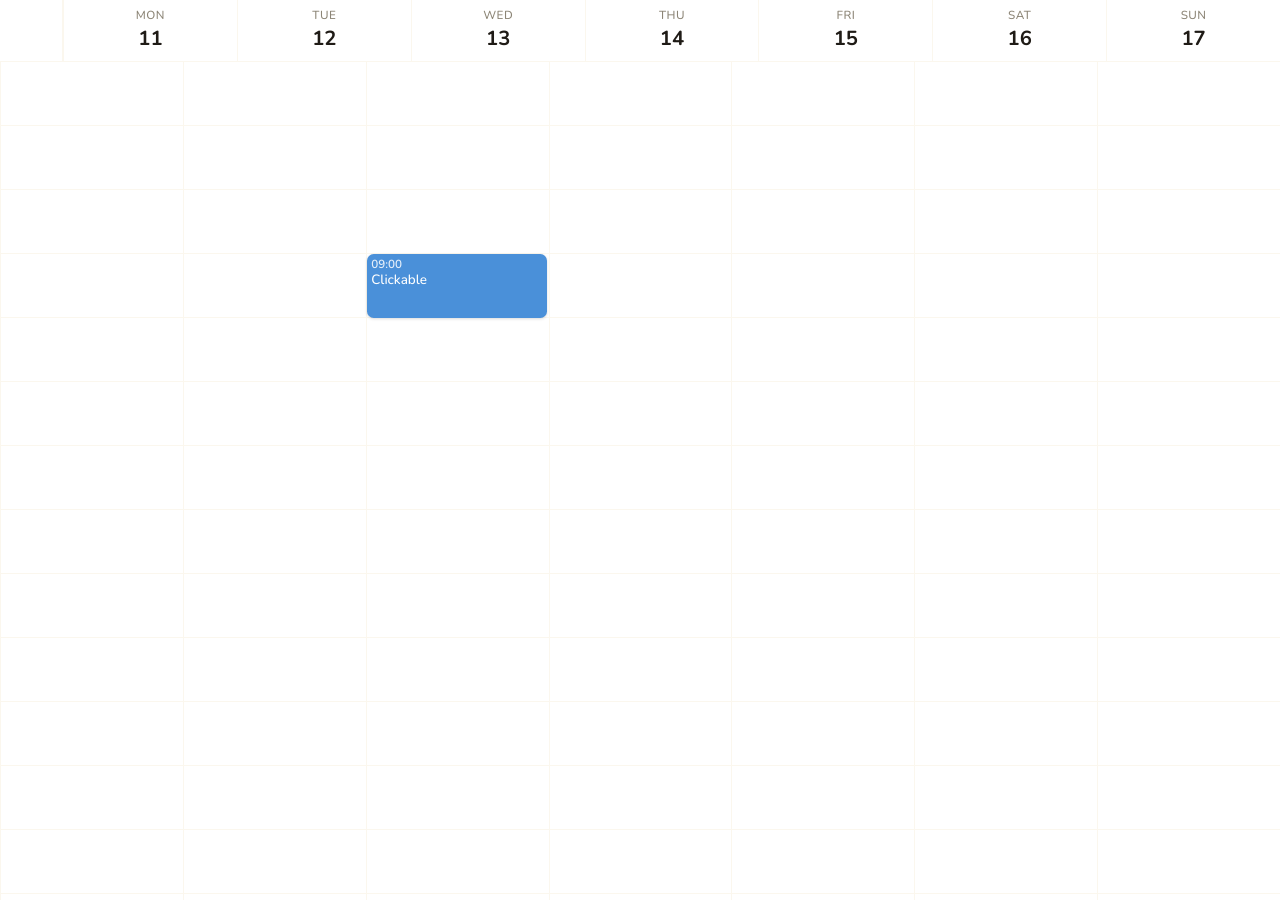
Test: WeekView — events › clicking an event opens the detail modal
The width and height of the screenshot is (1280, 900).
Click the button "09:00 Clickable": (457, 286) x1=367 y1=254 x2=547 y2=318
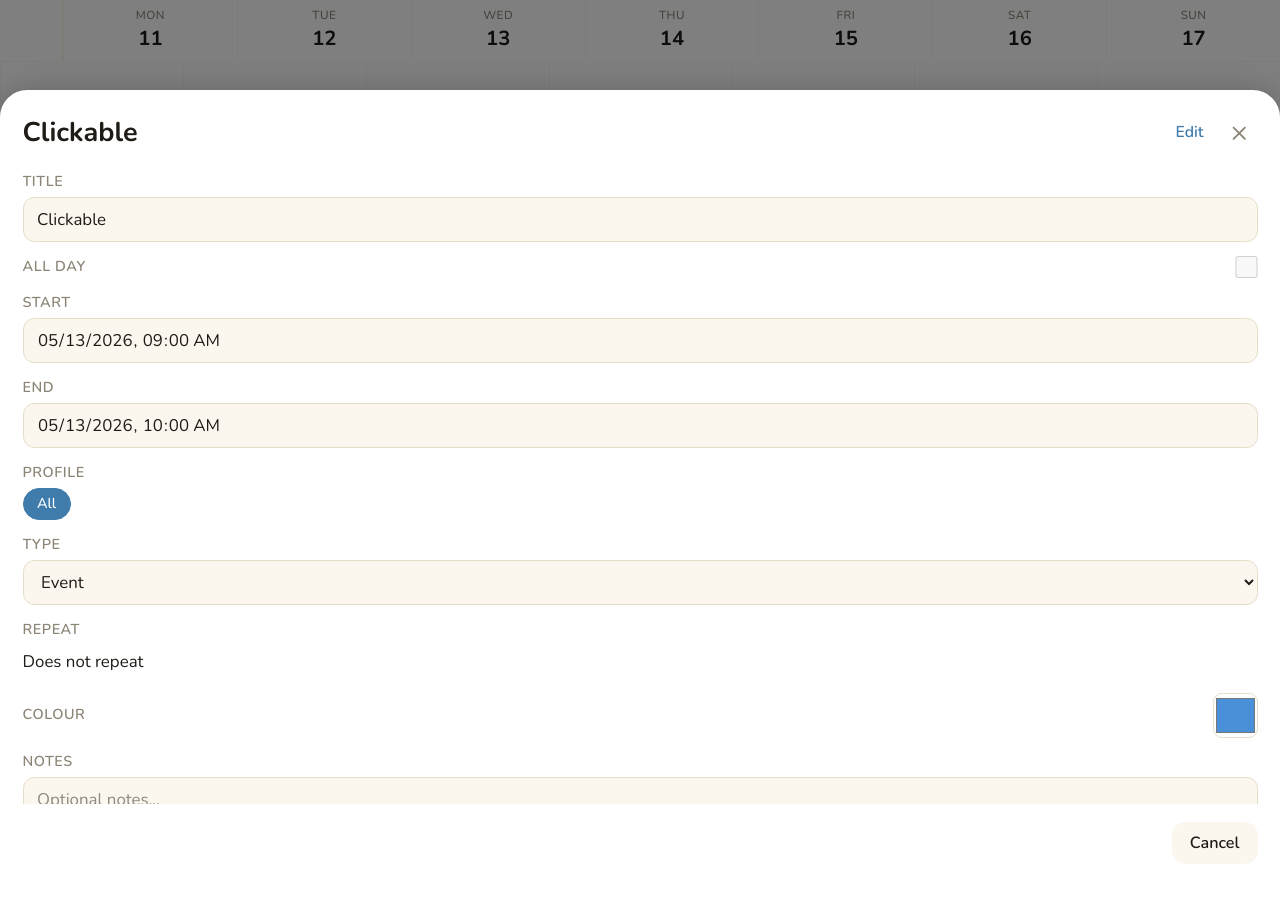
Now the dialog "Clickable" is shown
